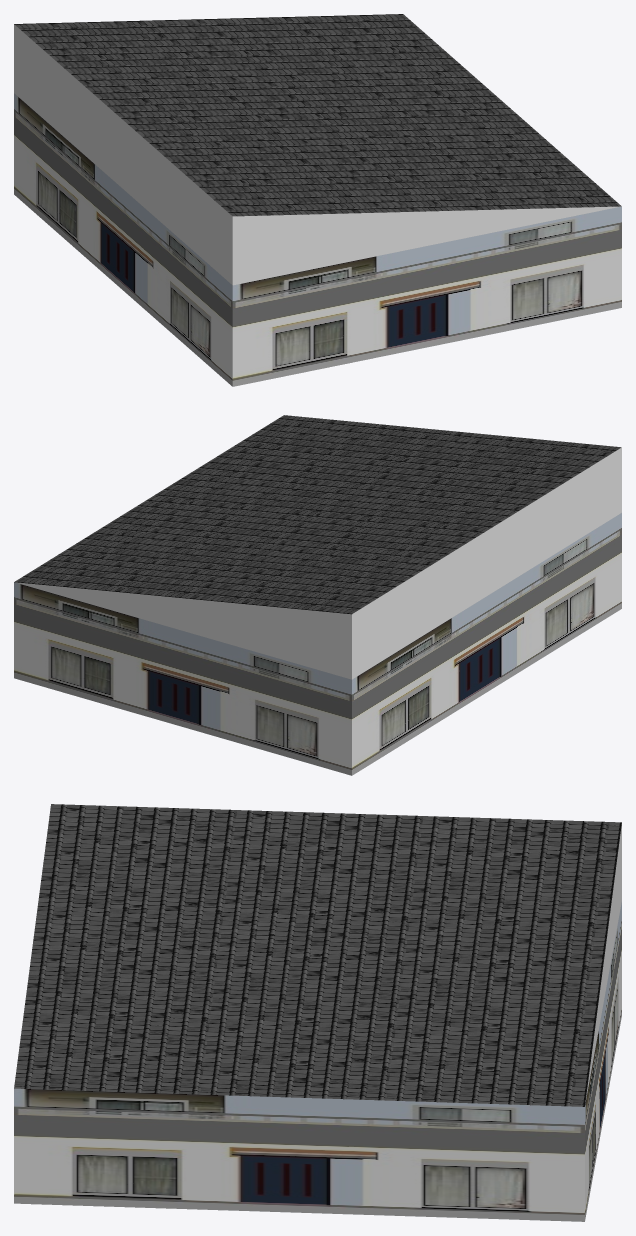
3 renders of one model, top to bottom at view 1: azimuth 30°, elevation 25°; view 2: azimuth 150°, elevation 25°; view 3: azimuth 270°, elevation 25°, orthographic. The views are drawn at different scales.
Parts seen in each view (by area): view 1: CityEngineMaterial_8_m, CityEngineMaterial_7_m, CityEngineMaterial_3_m; view 2: CityEngineMaterial_8_m, CityEngineMaterial_7_m, CityEngineMaterial_3_m; view 3: CityEngineMaterial_8_m, CityEngineMaterial_7_m, CityEngineMaterial_3_m.
Boxes of the visible parts, x1,y1,x2,y2 form: CityEngineMaterial_8_m: (14, 14, 621, 216); CityEngineMaterial_7_m: (14, 93, 621, 386); CityEngineMaterial_3_m: (14, 24, 621, 285); CityEngineMaterial_8_m: (14, 415, 621, 614); CityEngineMaterial_7_m: (14, 513, 621, 775); CityEngineMaterial_3_m: (15, 447, 621, 679); CityEngineMaterial_8_m: (14, 804, 621, 1106); CityEngineMaterial_7_m: (14, 902, 621, 1221); CityEngineMaterial_3_m: (585, 824, 621, 1105).
Size of the model in its own units: 28.46 by 11.42 by 32.56.
